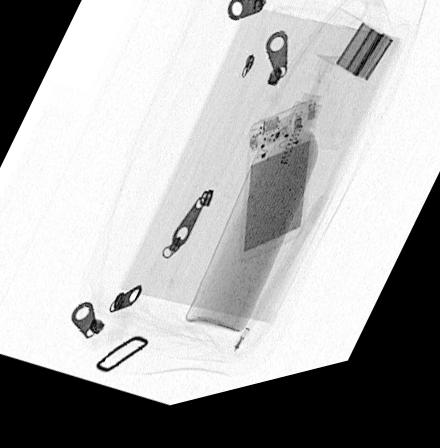Powerbank: (239, 114, 316, 276)
